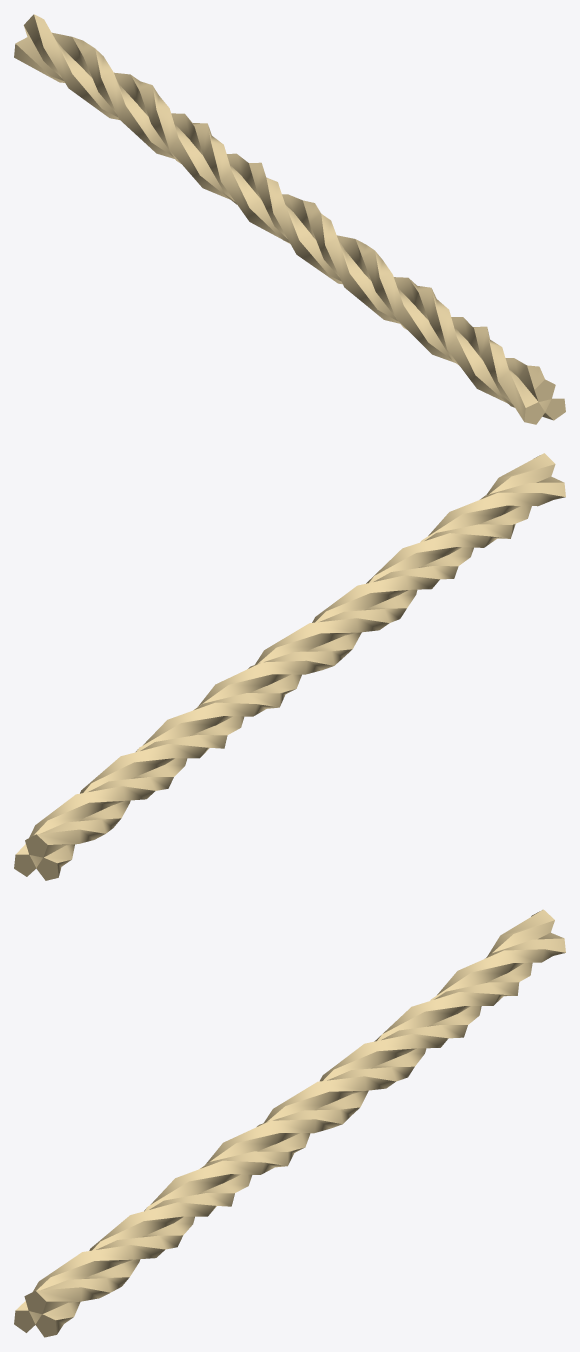
Rendered from Three_Side_Rope_Line.fbx.
3 renders of one model, top to bottom at view 1: azimuth 30°, elevation 25°; view 2: azimuth 150°, elevation 25°; view 3: azimuth 330°, elevation 25°, orthographic. The views are drawn at different scales.
Parts seen in each view (by area): view 1: sweep11; view 2: sweep11; view 3: sweep11.
Boxes of the visible parts, bbox=[...] form: sweep11: bbox=[14, 14, 565, 424]; sweep11: bbox=[14, 453, 565, 880]; sweep11: bbox=[14, 909, 565, 1337].
Size of the model in its own units: 2.24 by 1.95 by 35.31.
1 material, 1 textured.
